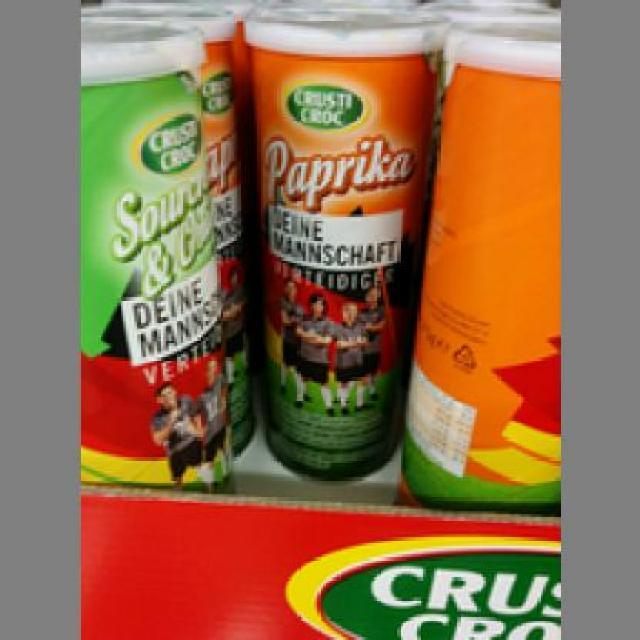Chips: (243, 6, 446, 486), (392, 26, 554, 508), (80, 17, 237, 490)
